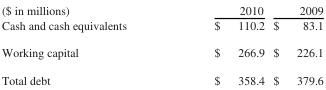table: (0, 1, 322, 87)
table column: (0, 1, 169, 87), (169, 1, 268, 87), (268, 1, 322, 87)
table column header: (0, 1, 322, 16)
table row: (0, 38, 322, 65), (0, 16, 322, 38), (0, 65, 322, 87), (0, 1, 322, 16)
